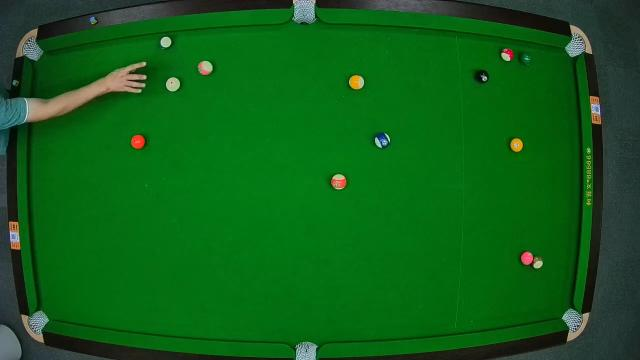bag1: (22, 38, 44, 60)
bag2: (291, 0, 317, 26)
bag3: (566, 29, 588, 57)
bag4: (29, 310, 49, 334)
bag5: (294, 340, 318, 360)
bag6: (563, 308, 585, 332)
ball0: (166, 76, 182, 92)
ball1: (510, 136, 524, 152)
ball10: (374, 132, 390, 148)
ball11: (500, 48, 514, 63)
ball12: (198, 60, 214, 76)
ball13: (332, 173, 348, 190)
ball14: (158, 35, 175, 51)
ball15: (532, 257, 544, 270)
ball4: (519, 251, 533, 265)
ball5: (130, 134, 146, 150)
ball6: (518, 52, 532, 66)
ball8: (474, 70, 488, 84)
ball9: (349, 74, 365, 90)
